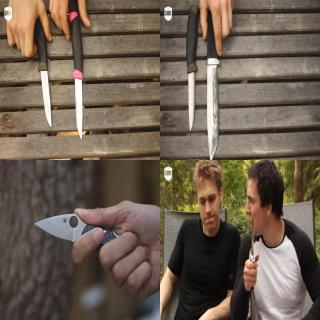knife: (32, 204, 138, 274), (201, 32, 230, 160), (20, 30, 54, 128), (70, 52, 86, 142), (184, 60, 199, 134), (246, 210, 260, 288)
